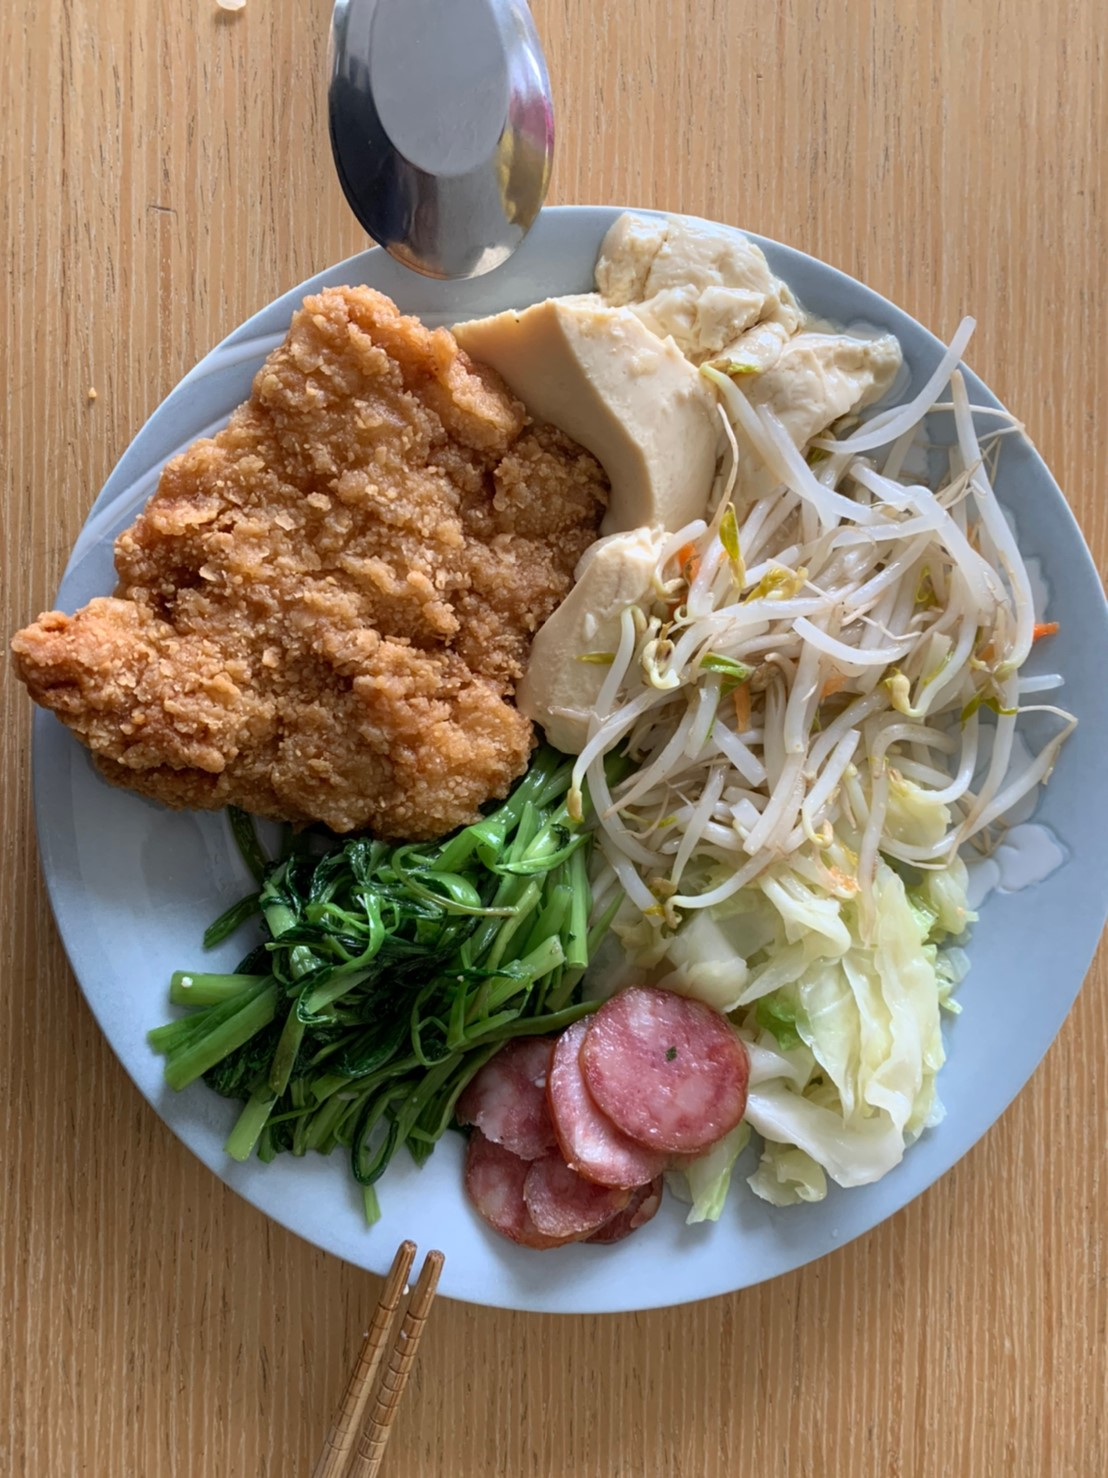chinese_cabbage: (739, 793, 970, 1207)
chinese_sausage: (438, 989, 772, 1248)
fried_chicken: (17, 276, 591, 834)
mung_bean_sprouts: (687, 474, 1047, 813)
water_spinach: (163, 827, 582, 1163)
